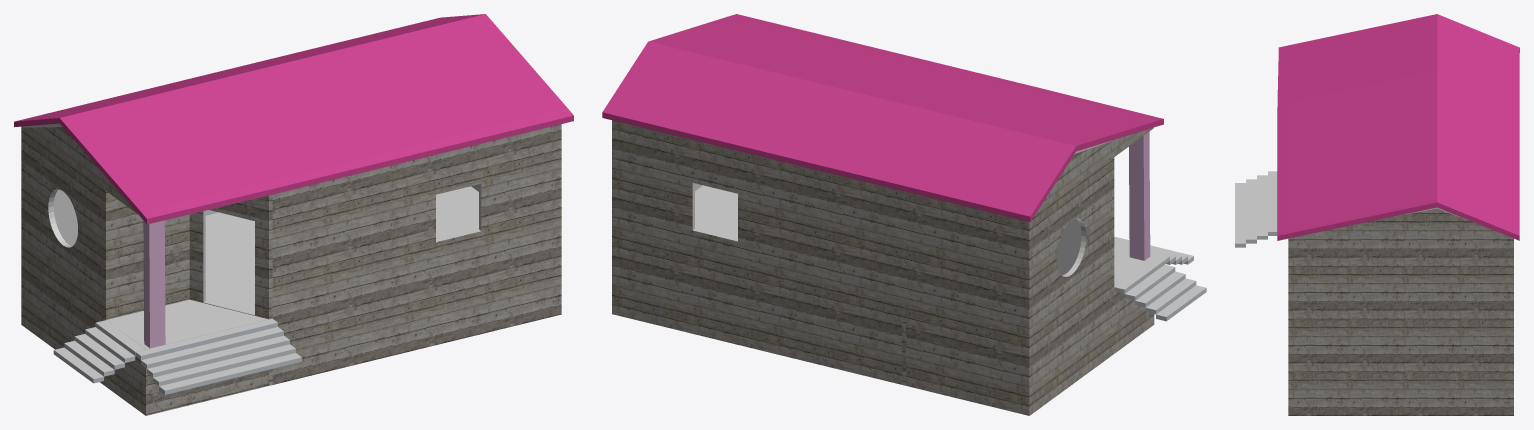
Rendered from housec4.fbx.
The picture shows the model from 3 angles, left to right: view 1: azimuth 30°, elevation 25°; view 2: azimuth 150°, elevation 25°; view 3: azimuth 270°, elevation 25°; orthographic projection. The views are drawn at different scales.
Visible parts, largest first — view 1: House; view 2: House; view 3: House.
Boxes of the visible parts, box(x1,y1,x2,y2) form: House: box(14, 14, 573, 415); House: box(602, 14, 1206, 415); House: box(1235, 14, 1519, 415).
Bounding box in the file's own units: 1834 × 883 × 1053.
6 materials, 1 textured.
